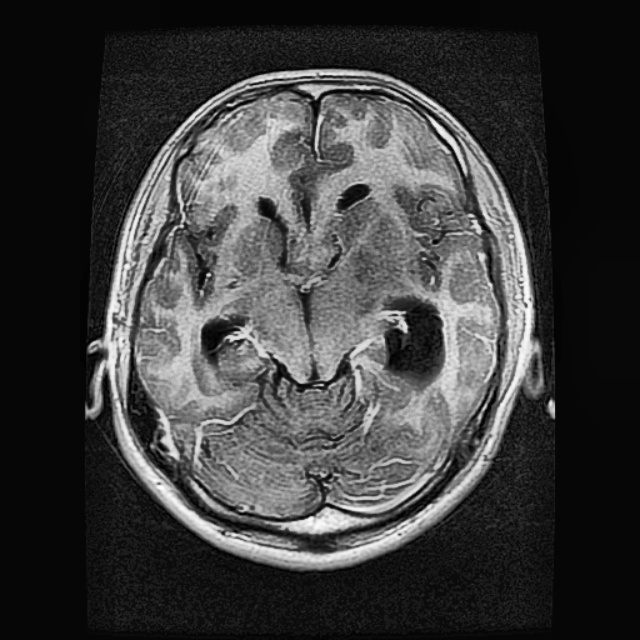Glioma: (384, 300, 448, 378)
